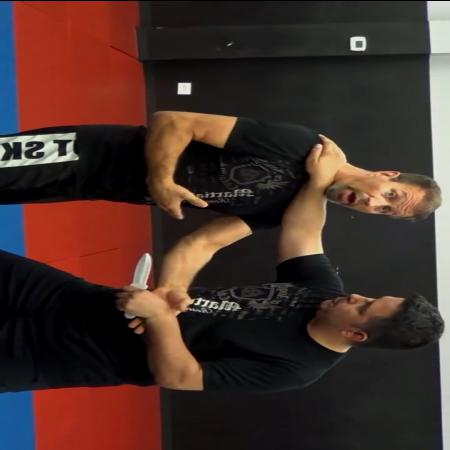long weapon: (116, 249, 156, 319)
